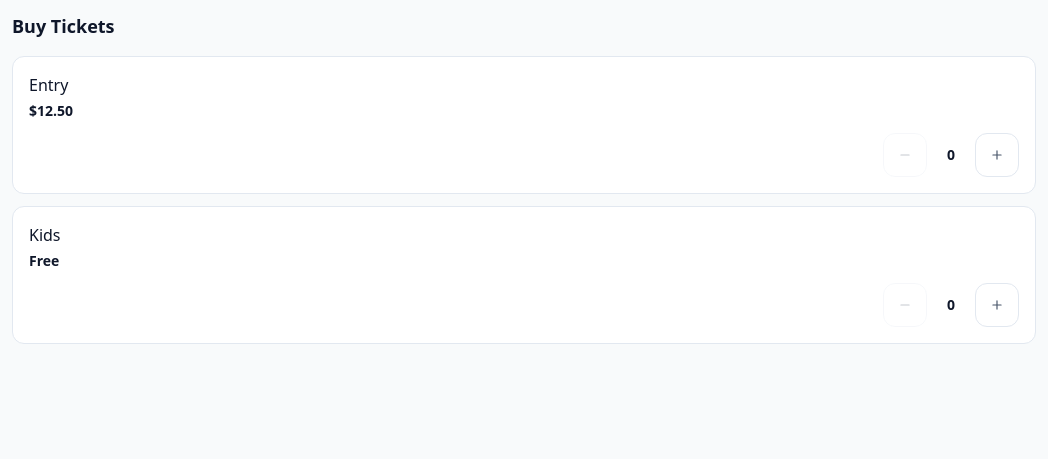
it: ticket selection with changing availability › keeps free tickets buyable but says paid sales open soon when paid checkout is locked
Click the button named "Increase quantity for Kids".
click(997, 305)  # box 975,283 -> 1019,327
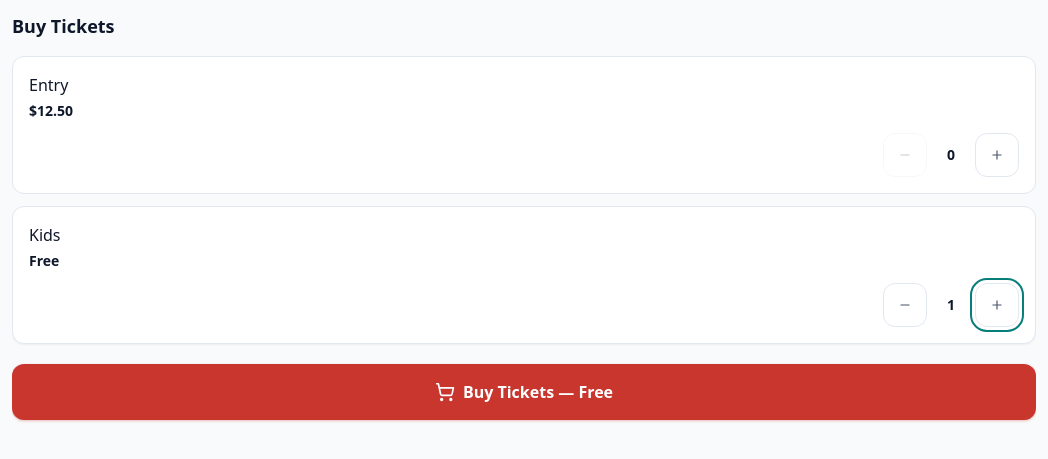
Click the button "Buy Tickets — Free".
click(524, 392)  # box 12,364 -> 1036,420
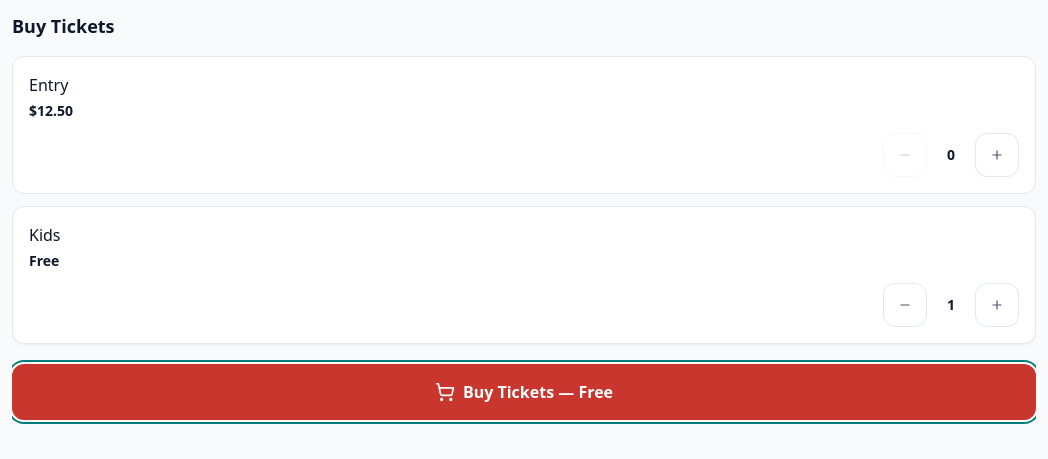
Click the button named "Increase quantity for Entry".
click(997, 155)  # box 975,133 -> 1019,177
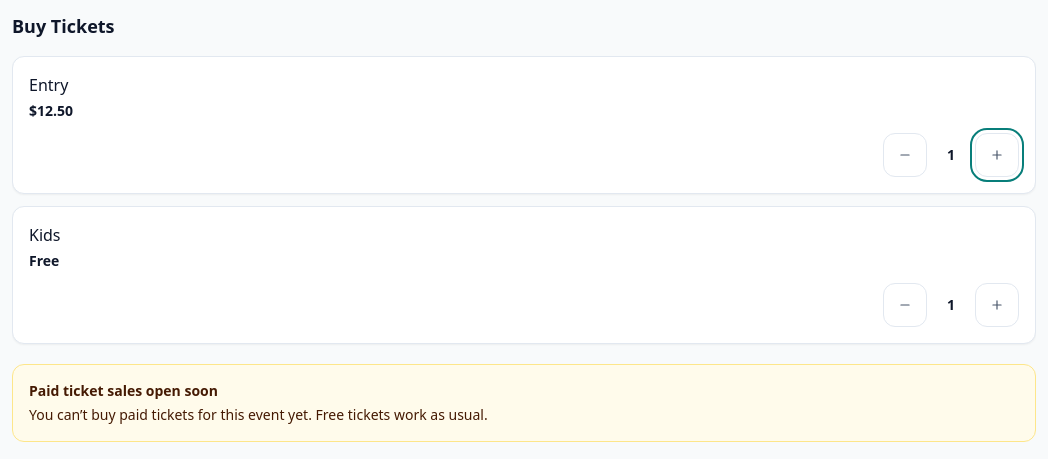
Result: the message shows "Paid ticket sales open soon" at 29,381 -> 218,400
